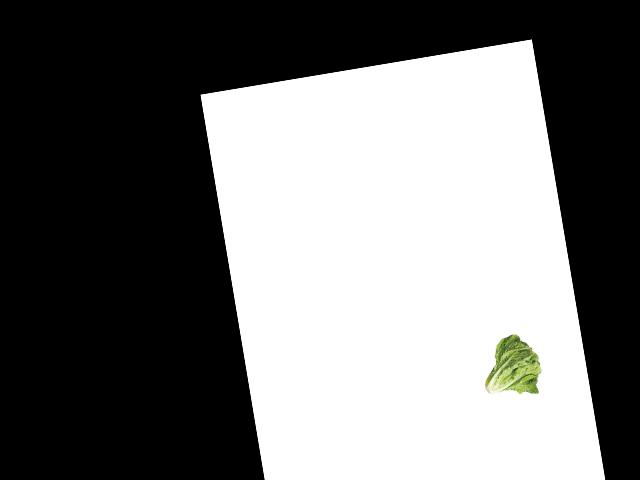lettuce: (474, 329, 547, 403)
